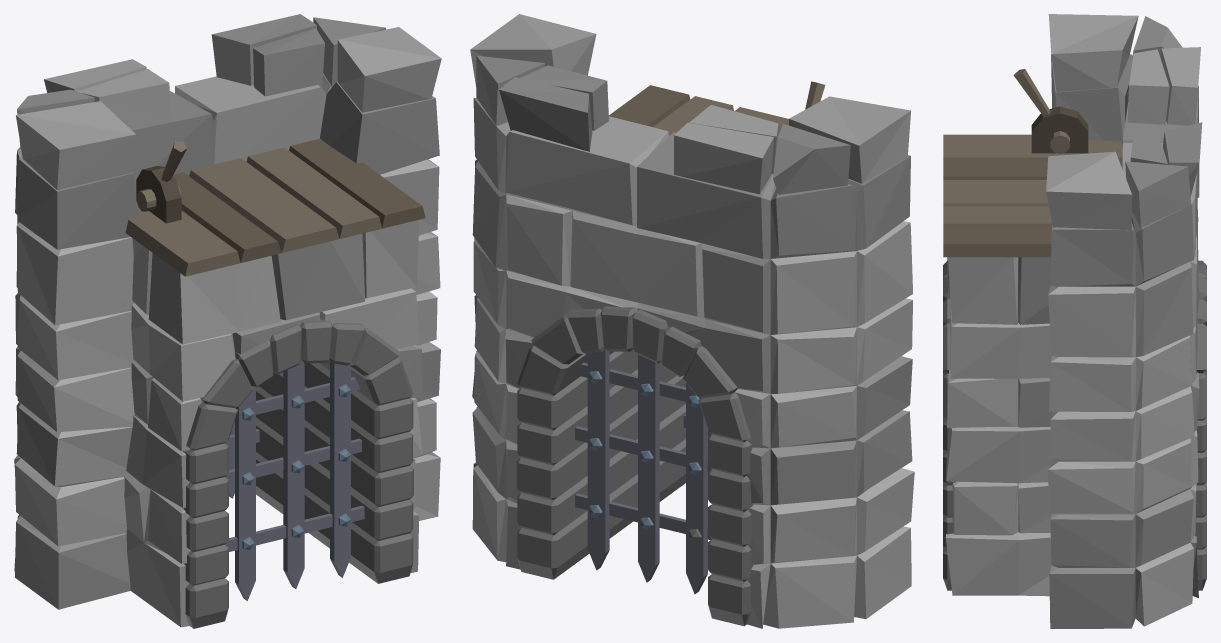
File: _tower_01.fbx
The picture shows the model from 3 angles, left to right: view 1: azimuth 30°, elevation 25°; view 2: azimuth 150°, elevation 25°; view 3: azimuth 270°, elevation 25°; orthographic projection. The views are drawn at different scales.
Visible parts, largest first — view 1: tower_01; view 2: tower_01; view 3: tower_01.
Part boxes in pixels (x1=…): tower_01: x1=14, y1=14, x2=441, y2=628; tower_01: x1=470, y1=14, x2=914, y2=628; tower_01: x1=943, y1=14, x2=1206, y2=628.
Size of the model in its own units: 482 by 558 by 299.
